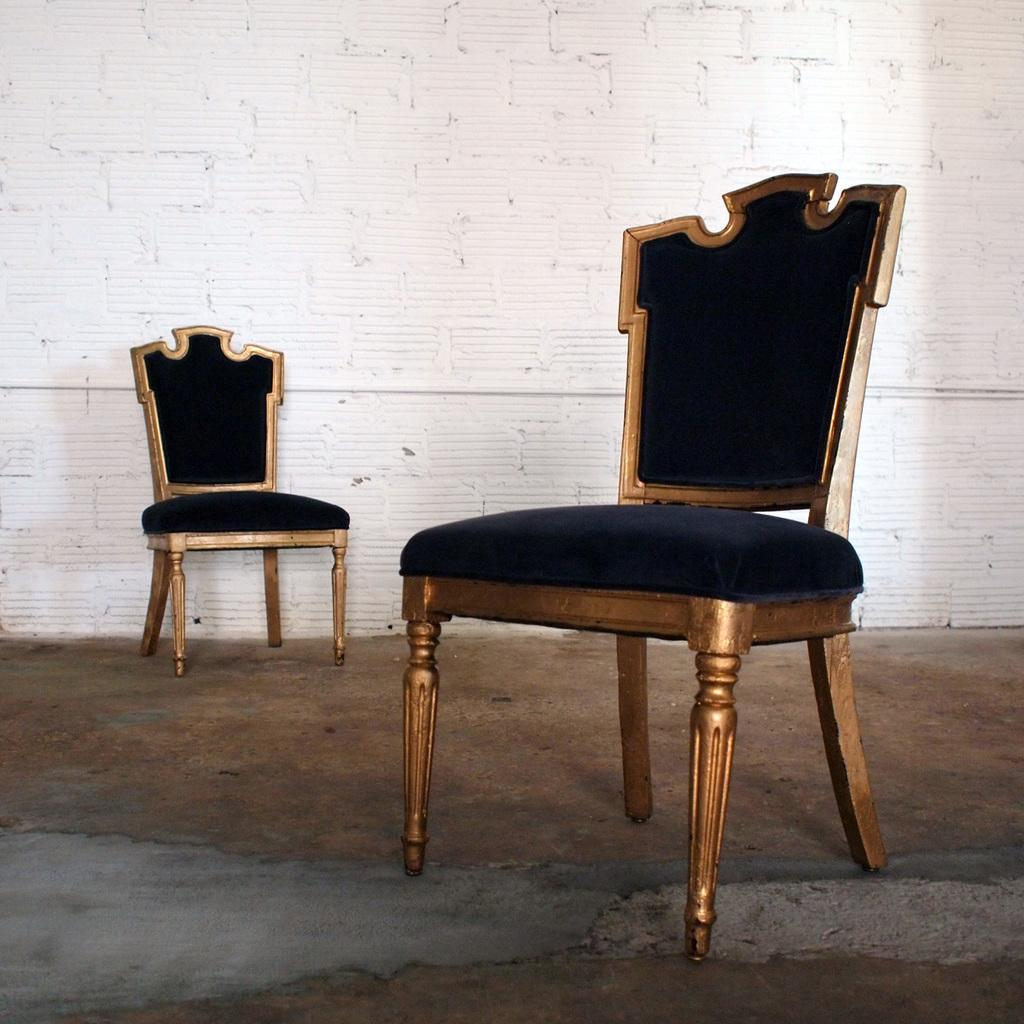Chair: (397, 166, 910, 965), (131, 322, 353, 679)
